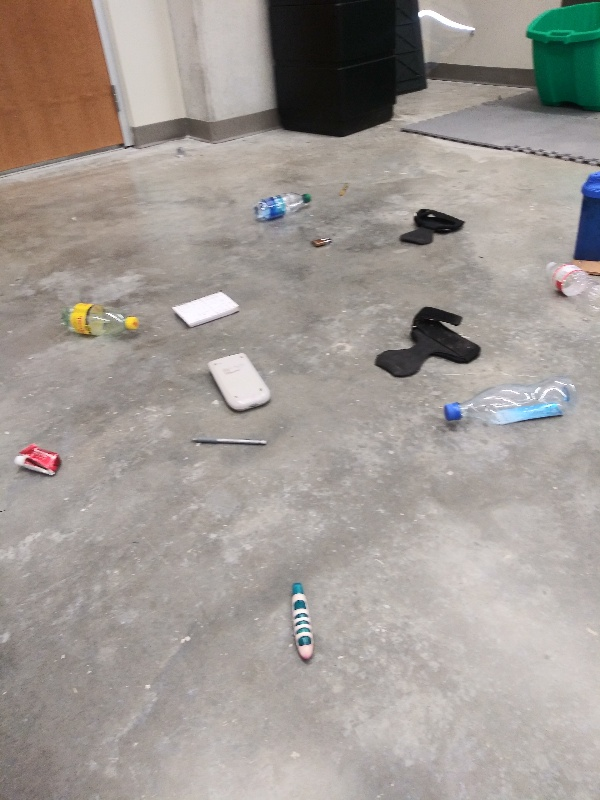bottle: (435, 373, 579, 428), (538, 253, 600, 321), (56, 298, 143, 344), (248, 187, 316, 225)
